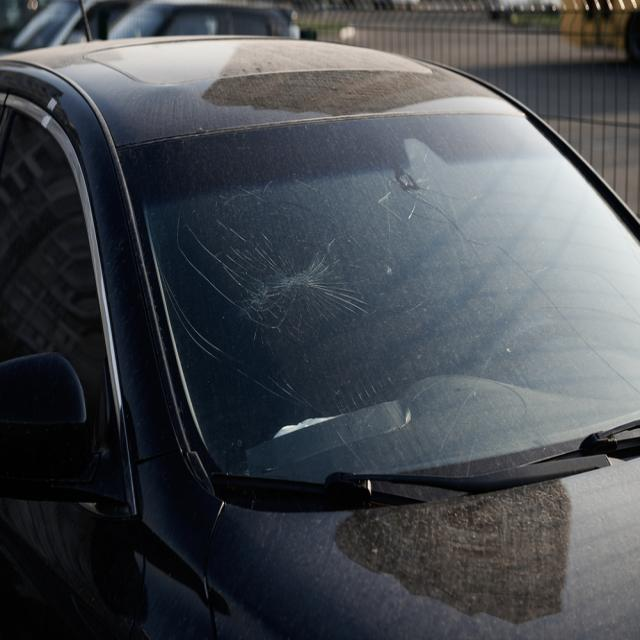Fissure: (153, 254, 425, 465), (171, 130, 378, 332), (486, 206, 640, 397), (383, 115, 485, 260)
